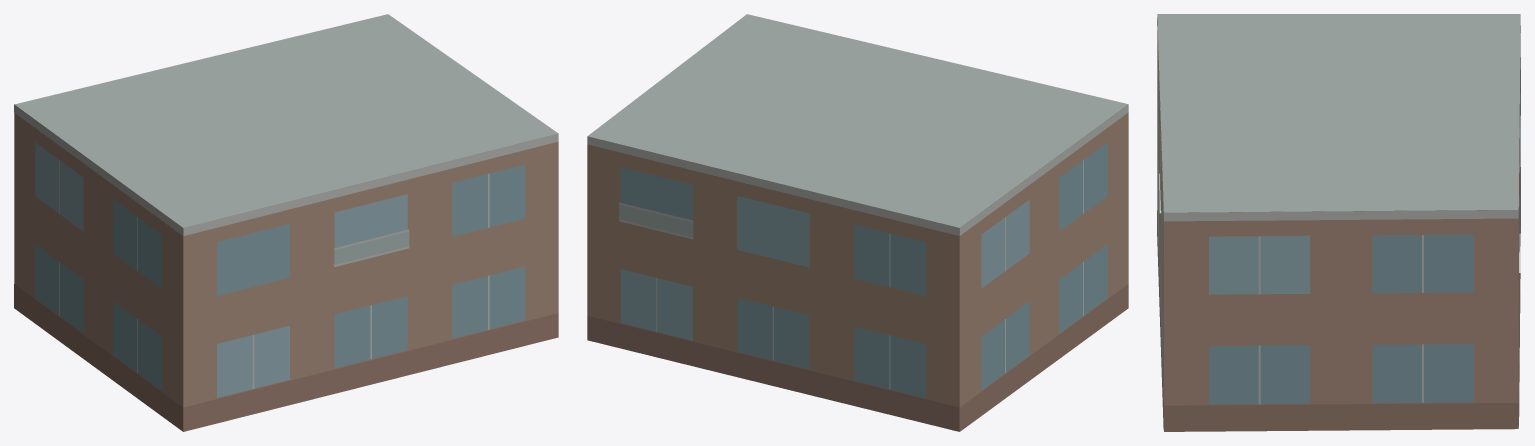
Rendered from survey-upis-32773419.glb.
3 renders of one model, left to right at view 1: azimuth 30°, elevation 25°; view 2: azimuth 150°, elevation 25°; view 3: azimuth 270°, elevation 25°, orthographic. The views are drawn at different scales.
Parts seen in each view (by area): view 1: survey-upis-32773419.tmp; view 2: survey-upis-32773419.tmp; view 3: survey-upis-32773419.tmp.
Part boxes in pixels (bbox=[...]): survey-upis-32773419.tmp: bbox=[14, 14, 558, 431]; survey-upis-32773419.tmp: bbox=[587, 14, 1128, 431]; survey-upis-32773419.tmp: bbox=[1157, 14, 1520, 431].
Size of the model in its own units: 11.87 by 6.1 by 9.18.
